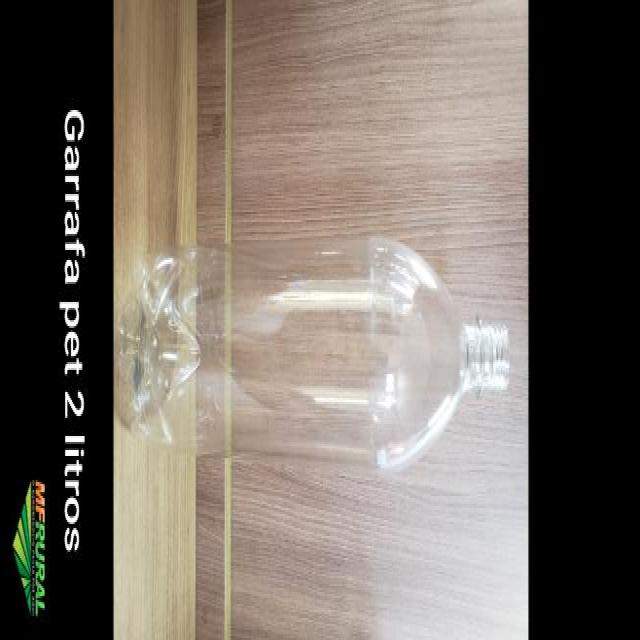bottle: (118, 239, 507, 470)
